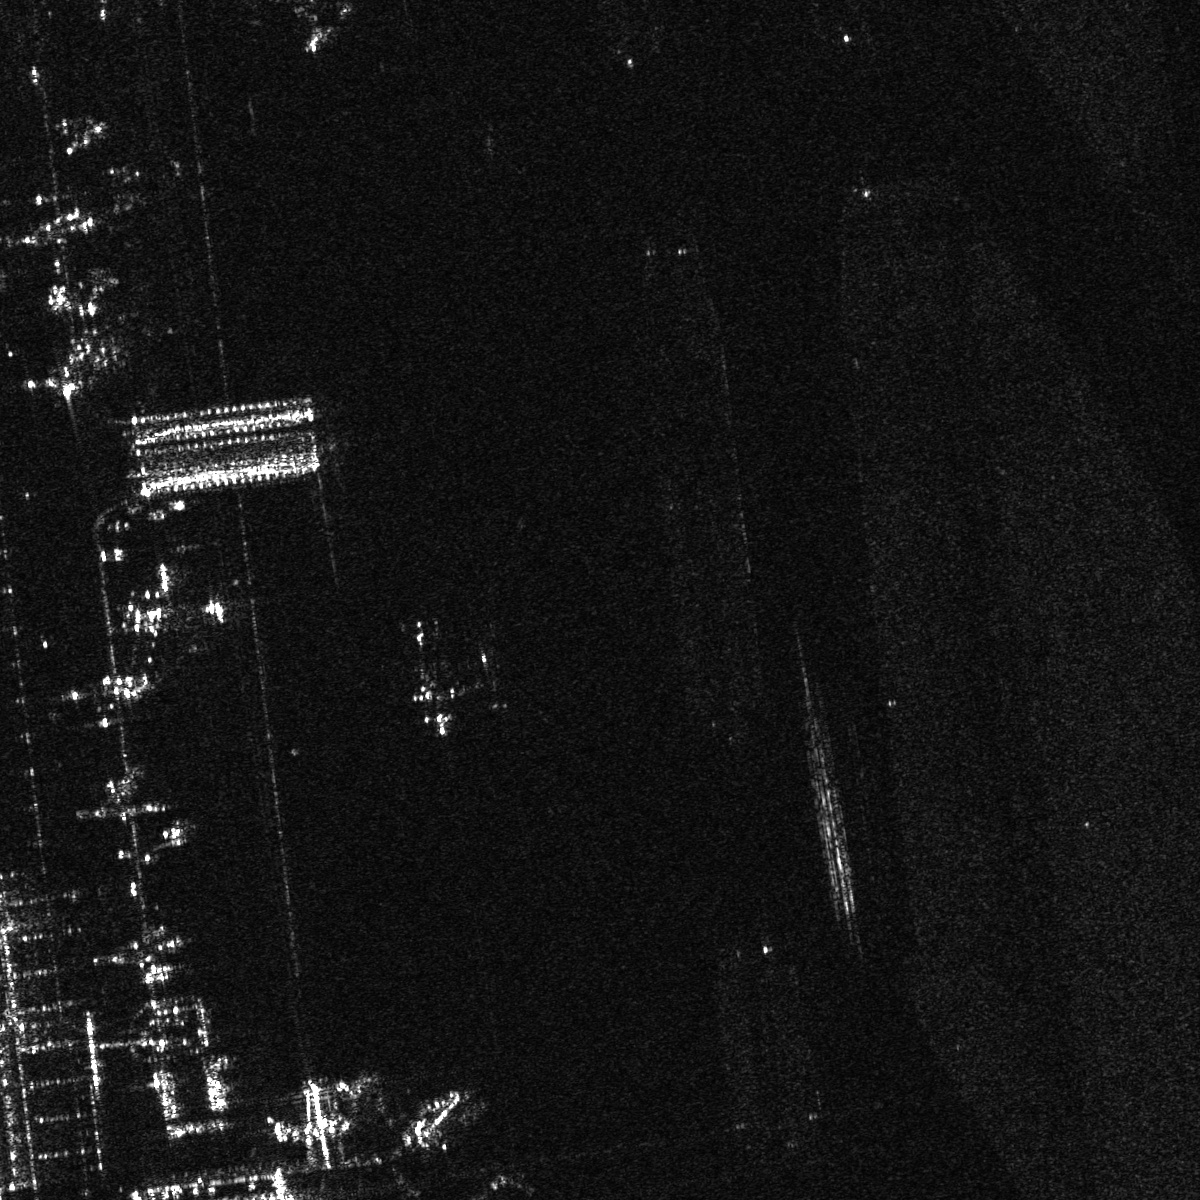Boeing787: (395, 640, 488, 744)
